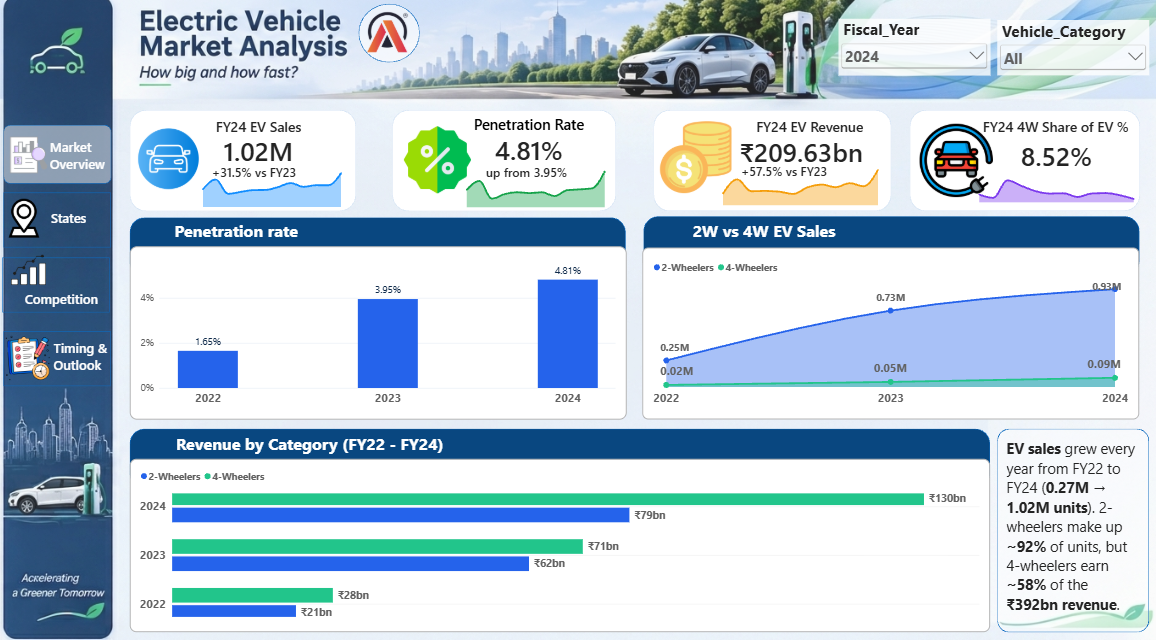

This screenshot's page, from the dashboard's own definition file:
{"tool":"powerbi","page":{"name":"Market overview","canvas":[1920,1080],"ordinal":5},"visuals":[{"type":"shape","box":[220.2,189.3,372.6,166.7],"z":0,"group":"g1"},{"type":"shape","box":[651.8,189.3,368.4,166.7],"z":0,"group":"g2"},{"type":"shape","box":[1504.1,189.5,379.2,166.7],"z":0,"group":"g4"},{"type":"shape","box":[1083.3,189.6,391.7,166.7],"z":0,"group":"g3"},{"type":"shape","box":[220.8,714.6,1416.7,97.9],"z":0},{"type":"cardVisual","fields":{"Data":["key_measures.Ev_sales"]},"box":[347.8,216.1,168.8,78.2],"z":1000,"group":"g1"},{"type":"image","box":[637.5,216.6,177.1,110.4],"z":1000,"group":"g2"},{"type":"cardVisual","fields":{"Data":["key_measures.4W Share of EV %"]},"box":[1664.5,220.8,162.5,85.4],"z":1000,"group":"g4"},{"type":"areaChart","fields":{"Category":["dim_date.Fiscal Month No"],"Y":["key_measures.EV Revenue"]},"box":[1171.7,262.4,307,101.2],"z":1000,"group":"g3"},{"type":"shape","box":[1066.7,364.6,816.7,97.9],"z":1000},{"type":"cardVisual","fields":{"Data":["key_measures.KPI3 Title - EV Revenue"]},"box":[1195.8,177.1,288.2,76.2],"z":2000,"group":"g3"},{"type":"image","box":[209.9,214,148.2,111.1],"z":2000,"group":"g1"},{"type":"areaChart","fields":{"Category":["dim_date.Fiscal Month No"],"Y":["key_measures.4W Share of EV %"]},"box":[1591.6,262.4,306.2,95.8],"z":2000,"group":"g4"},{"type":"areaChart","fields":{"Category":["dim_date.Fiscal Month No"],"Y":["key_measures.penetration rate"]},"box":[747.9,264.6,279.2,100],"z":2000,"group":"g2"},{"type":"shape","box":[220.8,366.7,816.7,97.9],"z":2000},{"type":"slicer","fields":{"Values":["dim_date.fiscal_year"]},"box":[1387.5,39.6,250,93.8],"z":3000},{"type":"cardVisual","fields":{"Data":["key_measures.KPI4 Title - 4W Revenue Share"]},"box":[1604.1,181.2,279.2,68.8],"z":3000,"group":"g4"},{"type":"cardVisual","fields":{"Data":["key_measures.penetration rate"]},"box":[793.7,212.5,166.7,83.3],"z":3000,"group":"g2"},{"type":"cardVisual","fields":{"Data":["key_measures.KPI3 Subtitle - EV Revenue vs PY"]},"box":[1187.5,262.5,220.2,55.6],"z":3000,"group":"g3"},{"type":"areaChart","fields":{"Category":["dim_date.Fiscal Month No"],"Y":["key_measures.Ev_sales"]},"box":[314.5,264.6,279.2,100],"z":3000,"group":"g1"},{"type":"shape","box":[729.2,170.8,293.8,85.4],"z":4000,"group":"g2"},{"type":"group","id":"g1","title":"KPI card 1","box":[209.9,177,383.8,187.6],"z":4000},{"type":"cardVisual","fields":{"Data":["key_measures.KPI1 Title - EV Sales"]},"box":[288.1,177,288.2,76.2],"z":4000,"group":"g1"},{"type":"image","box":[1083.3,208.3,139.6,118.8],"z":4000,"group":"g3"},{"type":"image","box":[1483.3,212.4,193.8,120.8],"z":4000,"group":"g4"},{"type":"group","id":"g2","title":"Kpi card 2","box":[637.5,170.8,389.6,193.8],"z":5000},{"type":"cardVisual","fields":{"Data":["key_measures.EV Revenue"]},"box":[1208.3,204.2,243.8,104.2],"z":5000,"group":"g3"},{"type":"cardVisual","fields":{"Data":["key_measures.KPI1 Subtitle - EV Sales vs PY"]},"box":[314.2,264.5,220.2,55.6],"z":5000,"group":"g1"},{"type":"cardVisual","fields":{"Data":["key_measures.KPI2 Subtitle - Penetration vs PY"]},"box":[781.3,264.6,183.3,50],"z":5000,"group":"g2"},{"type":"columnChart","fields":{"Category":["dim_date.fiscal_year"],"Y":["key_measures.penetration rate"]},"box":[220.8,414.6,818.8,285.4],"z":6000},{"type":"lineChart","fields":{"Category":["dim_date.fiscal_year"],"Series":["sales_by_state.vehicle_category"],"Y":["key_measures.Ev_sales"]},"box":[1064.6,416.7,818.8,283.3],"z":7000},{"type":"clusteredBarChart","fields":{"Category":["dim_date.fiscal_year"],"Series":["sales_by_state.vehicle_category"],"Y":["key_measures.EV Revenue"]},"box":[220.8,764.6,1416.7,285.4],"z":8000},{"type":"textbox","box":[281.2,370.8,227.1,45.8],"z":9000},{"type":"textbox","box":[1108.3,370.8,314.6,45.8],"z":10000},{"type":"slicer","fields":{"Values":["sales_by_state.vehicle_category"]},"box":[1647.9,41.7,250,91],"z":11000},{"type":"shape","box":[1647.9,714.6,250,335.4],"z":12000},{"type":"textbox","box":[1648.3,720.4,249.4,329.7],"z":13000},{"type":"textbox","box":[270.8,720.8,489.6,45.8],"z":14000},{"type":"group","id":"g3","title":"Kpi card 3","box":[1083.3,177.1,400.7,186.5],"z":15000},{"type":"group","id":"g4","title":"KPI card 4","box":[1483.3,181.2,414.6,177.1],"z":16000},{"type":"textbox","box":[88.5,234.5,121.4,78.2],"z":17000},{"type":"image","box":[12.3,232.5,82.3,61.7],"z":18000},{"type":"textbox","box":[90.6,351.8,92.6,55.6],"z":19000},{"type":"image","box":[2.1,335.4,88.5,63.8],"z":20000},{"type":"textbox","box":[47.3,485.8,131.7,37],"z":21000},{"type":"image","box":[24.7,419.9,57.6,65.9],"z":22000},{"type":"textbox","box":[94.7,566,107,63.8],"z":23000},{"type":"image","box":[10.3,559.9,84.4,76.2],"z":24000},{"type":"shape","box":[12.3,214.1,177.7,96.7],"z":25000},{"type":"group","id":"g5","title":"Group 1","box":[594.9,14.4,102.9,96.7],"z":26000},{"type":"shape","box":[597,14.4,100.9,96.7],"z":26000,"group":"g5"},{"type":"image","box":[594.9,26.7,100.9,67.9],"z":27000,"group":"g5"},{"type":"shape","box":[12.3,325.2,177,90.6],"z":27000},{"type":"shape","box":[10.3,432.2,177,90.6],"z":28000},{"type":"shape","box":[12.3,553.7,177,90.6],"z":29000}]}

Visuals, with their boxes on the page's 1920x1080 design canvas (x1, y1, x2, y2). These are canvas units, not pixel positions in the 1156x640 screenshot, which may show the page scaled, cropped or inside an application window:
shape: [left=220, top=189, right=593, bottom=356]
shape: [left=652, top=189, right=1020, bottom=356]
shape: [left=1504, top=190, right=1883, bottom=356]
shape: [left=1083, top=190, right=1475, bottom=356]
shape: [left=221, top=715, right=1638, bottom=812]
cardVisual - key_measures.Ev_sales: [left=348, top=216, right=517, bottom=294]
image: [left=638, top=217, right=815, bottom=327]
cardVisual - key_measures.4W Share of EV %: [left=1664, top=221, right=1827, bottom=306]
areaChart - dim_date.Fiscal Month No x key_measures.EV Revenue: [left=1172, top=262, right=1479, bottom=364]
shape: [left=1067, top=365, right=1883, bottom=462]
cardVisual - key_measures.KPI3 Title - EV Revenue: [left=1196, top=177, right=1484, bottom=253]
image: [left=210, top=214, right=358, bottom=325]
areaChart - dim_date.Fiscal Month No x key_measures.4W Share of EV %: [left=1592, top=262, right=1898, bottom=358]
areaChart - dim_date.Fiscal Month No x key_measures.penetration rate: [left=748, top=265, right=1027, bottom=365]
shape: [left=221, top=367, right=1038, bottom=465]
slicer - dim_date.fiscal_year: [left=1388, top=40, right=1638, bottom=133]
cardVisual - key_measures.KPI4 Title - 4W Revenue Share: [left=1604, top=181, right=1883, bottom=250]
cardVisual - key_measures.penetration rate: [left=794, top=212, right=960, bottom=296]
cardVisual - key_measures.KPI3 Subtitle - EV Revenue vs PY: [left=1188, top=262, right=1408, bottom=318]
areaChart - dim_date.Fiscal Month No x key_measures.Ev_sales: [left=314, top=265, right=594, bottom=365]
shape: [left=729, top=171, right=1023, bottom=256]
"KPI card 1" group: [left=210, top=177, right=594, bottom=365]
cardVisual - key_measures.KPI1 Title - EV Sales: [left=288, top=177, right=576, bottom=253]
image: [left=1083, top=208, right=1223, bottom=327]
image: [left=1483, top=212, right=1677, bottom=333]
"Kpi card 2" group: [left=638, top=171, right=1027, bottom=365]
cardVisual - key_measures.EV Revenue: [left=1208, top=204, right=1452, bottom=308]
cardVisual - key_measures.KPI1 Subtitle - EV Sales vs PY: [left=314, top=264, right=534, bottom=320]
cardVisual - key_measures.KPI2 Subtitle - Penetration vs PY: [left=781, top=265, right=965, bottom=315]
columnChart - dim_date.fiscal_year x key_measures.penetration rate: [left=221, top=415, right=1040, bottom=700]
lineChart - dim_date.fiscal_year x sales_by_state.vehicle_category: [left=1065, top=417, right=1883, bottom=700]
clusteredBarChart - dim_date.fiscal_year x sales_by_state.vehicle_category: [left=221, top=765, right=1638, bottom=1050]
textbox: [left=281, top=371, right=508, bottom=417]
textbox: [left=1108, top=371, right=1423, bottom=417]
slicer - sales_by_state.vehicle_category: [left=1648, top=42, right=1898, bottom=133]
shape: [left=1648, top=715, right=1898, bottom=1050]
textbox: [left=1648, top=720, right=1898, bottom=1050]
textbox: [left=271, top=721, right=760, bottom=767]
"Kpi card 3" group: [left=1083, top=177, right=1484, bottom=364]
"KPI card 4" group: [left=1483, top=181, right=1898, bottom=358]
textbox: [left=88, top=234, right=210, bottom=313]
image: [left=12, top=232, right=95, bottom=294]
textbox: [left=91, top=352, right=183, bottom=407]
image: [left=2, top=335, right=91, bottom=399]
textbox: [left=47, top=486, right=179, bottom=523]
image: [left=25, top=420, right=82, bottom=486]
textbox: [left=95, top=566, right=202, bottom=630]
image: [left=10, top=560, right=95, bottom=636]
shape: [left=12, top=214, right=190, bottom=311]
"Group 1" group: [left=595, top=14, right=698, bottom=111]
shape: [left=597, top=14, right=698, bottom=111]
image: [left=595, top=27, right=696, bottom=95]
shape: [left=12, top=325, right=189, bottom=416]
shape: [left=10, top=432, right=187, bottom=523]
shape: [left=12, top=554, right=189, bottom=644]
